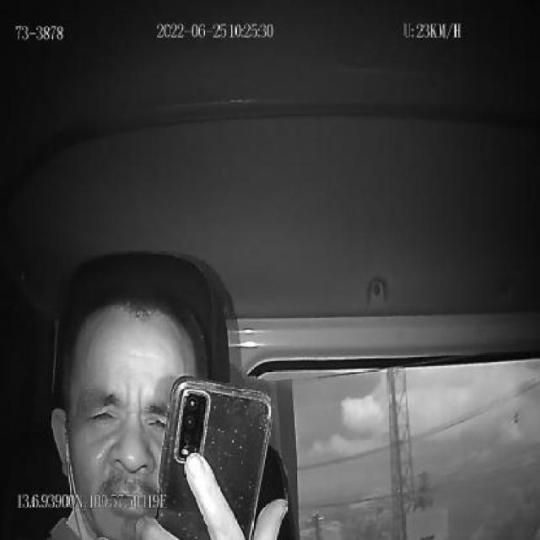phone: (157, 374, 272, 540)
